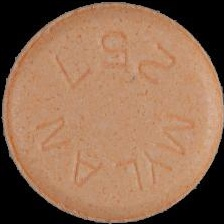0615-2595: (0, 0, 224, 224)
